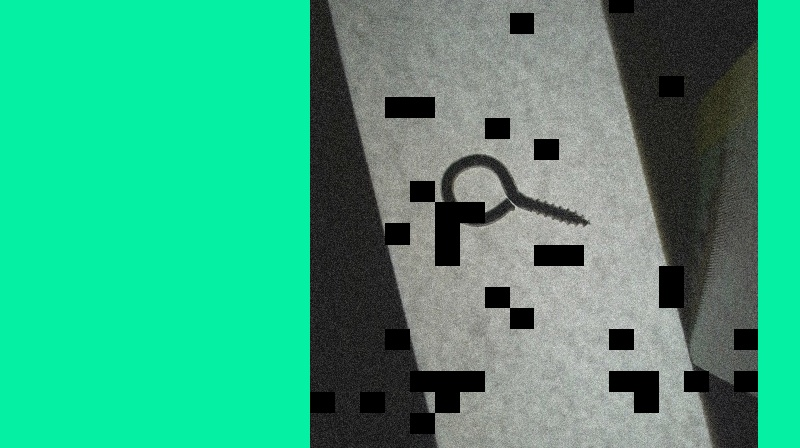O001: (436, 150, 591, 235)
